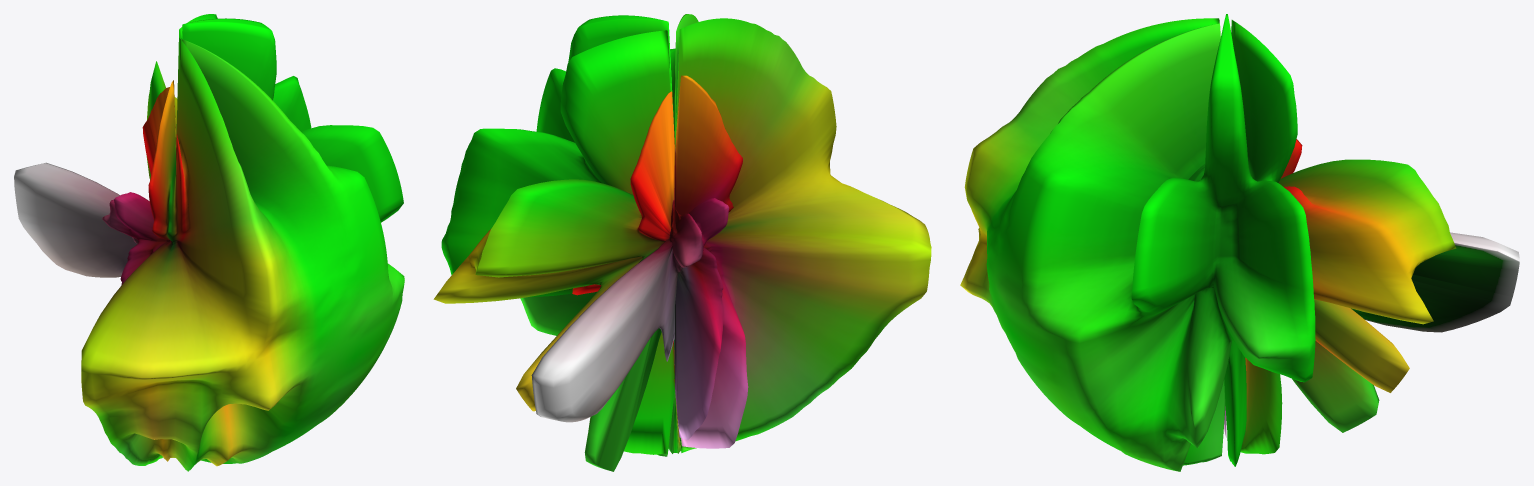
File: pixelation15.fbx
The picture shows the model from 3 angles, left to right: view 1: azimuth 30°, elevation 25°; view 2: azimuth 150°, elevation 25°; view 3: azimuth 270°, elevation 25°; orthographic projection. The views are drawn at different scales.
Parts seen in each view (by area): view 1: default; view 2: default; view 3: default.
Part boxes in pixels (x1,y1,x2,y2): default: (14,14,404,471); default: (433,14,931,471); default: (960,14,1519,471).
Bounding box in the file's own units: 1.51 × 1.66 × 1.9.
